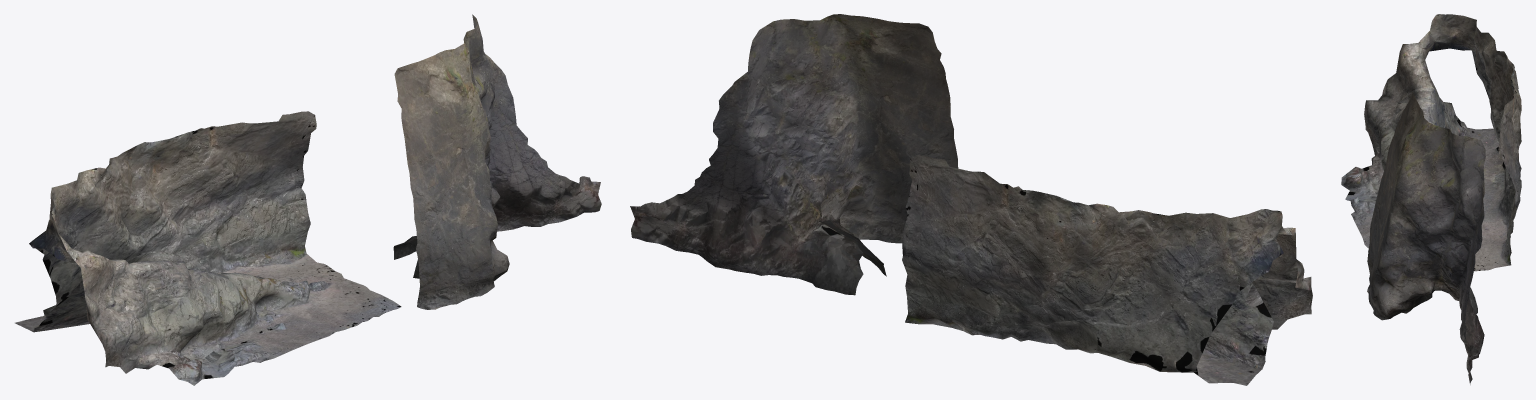
Rendered from roccia.glb.
The picture shows the model from 3 angles, left to right: view 1: azimuth 30°, elevation 25°; view 2: azimuth 150°, elevation 25°; view 3: azimuth 270°, elevation 25°; orthographic projection. The views are drawn at different scales.
Parts seen in each view (by area): view 1: Object_4, Object_2; view 2: Object_4, Object_2; view 3: Object_2, Object_4.
Part boxes in pixels (x1,y1,x2,y2): Object_4: (15, 111, 401, 385); Object_2: (393, 14, 601, 309); Object_4: (902, 155, 1312, 385); Object_2: (630, 14, 958, 295); Object_2: (1367, 91, 1485, 384); Object_4: (1341, 14, 1521, 271).
Size of the model in its own units: 8.02 by 3.07 by 2.5.
2 materials, 2 textured.
